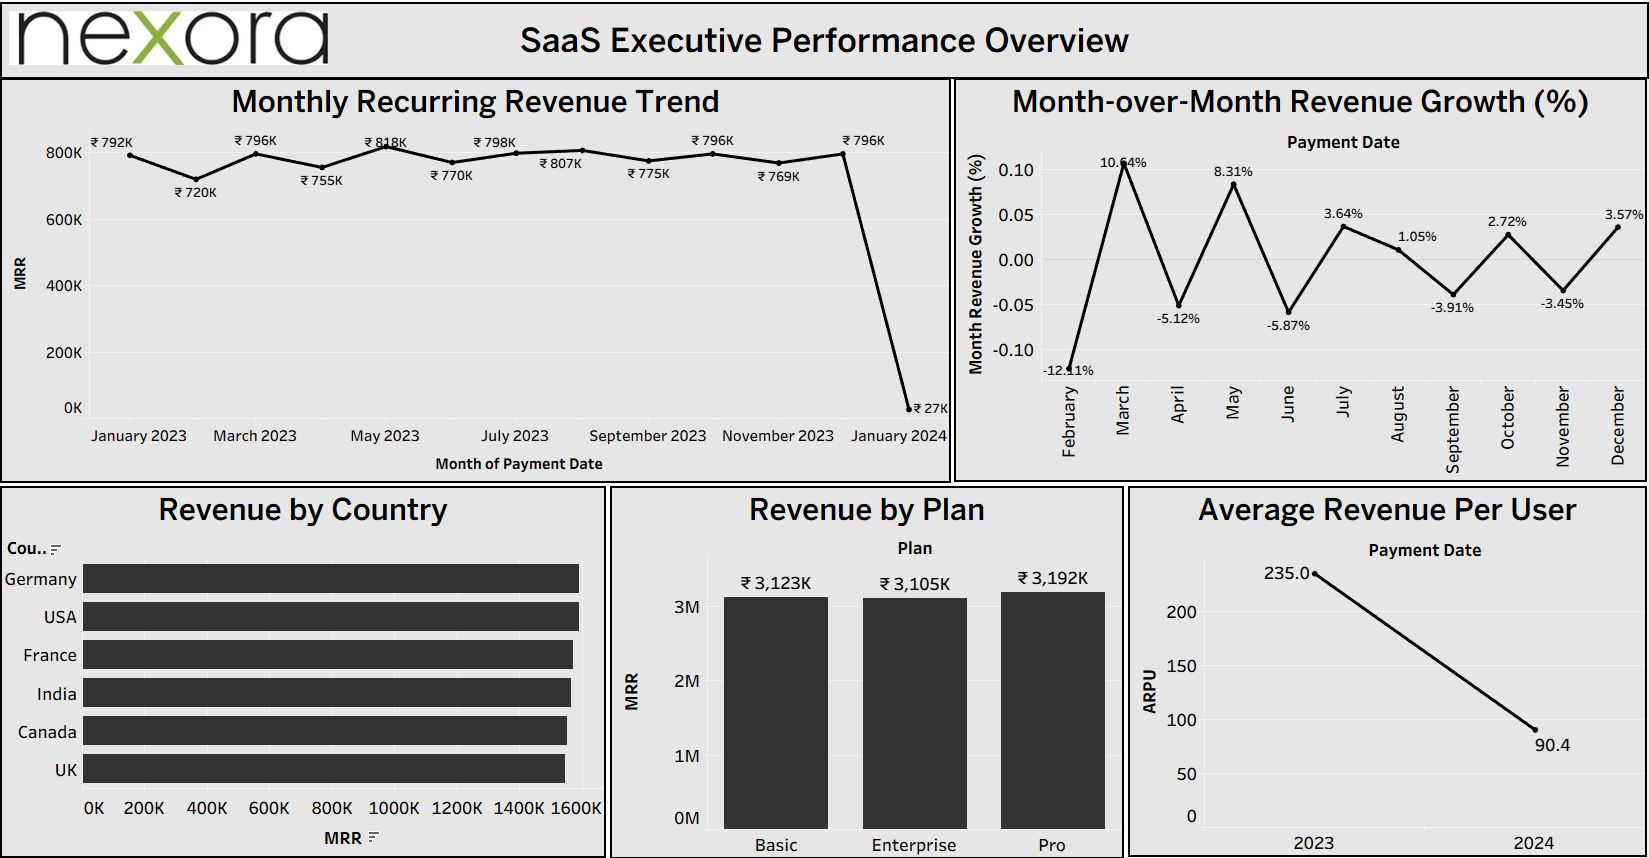

The page's visual inventory and layout, read from the dashboard file:
{"tool":"tableau","page":{"name":"SaaS Revenue & Growth Overview","canvas":[1000,1000],"units":"permille","ordinal":1},"visuals":[{"type":"text","box":[1.8,3.5,999.4,89.5]},{"type":"image","param":"Image/image2.jpg","box":[7.3,14,193.3,69.8]},{"type":"worksheet","title":"Monthly Recurring Revenue Trend","mark":"Automatic","rows":["Calculation_1881849669201920"],"cols":["payment_date"],"box":[1.8,91.9,576.4,470.9]},{"type":"worksheet","title":"Month-over-Month Revenue Growth (%)","mark":"Automatic","rows":["Calculation_0922800967049216"],"cols":["payment_date"],"box":[580,91.9,420,469.8]},{"type":"worksheet","title":"Revenue by Country","mark":"Automatic","rows":["country"],"cols":["Calculation_1881849669201920"],"box":[1.8,566.3,367.3,432.6]},{"type":"worksheet","title":"Revenue by Plan","mark":"Automatic","rows":["Calculation_1881849669201920"],"cols":["plan"],"box":[371.5,566.3,311.5,433.7]},{"type":"worksheet","title":"Average Revenue Per User","mark":"Automatic","rows":["Calculation_1881849669890053"],"cols":["payment_date"],"box":[685.5,566.3,314.6,431.4]}]}

Visuals, with their boxes on the dashboard's canvas, which has no fixed pixel size, in thousandths of its width and height (x1, y1, x2, y2). These are canvas units, not pixel positions in the 1649x858 screenshot, which may show the page scaled, cropped or inside an application window:
text: 2,4,1001,93
image: 7,14,201,84
"Monthly Recurring Revenue Trend" worksheet: 2,92,578,563
"Month-over-Month Revenue Growth (%)" worksheet: 580,92,1000,562
"Revenue by Country" worksheet: 2,566,369,999
"Revenue by Plan" worksheet: 372,566,683,1000
"Average Revenue Per User" worksheet: 686,566,1000,998
